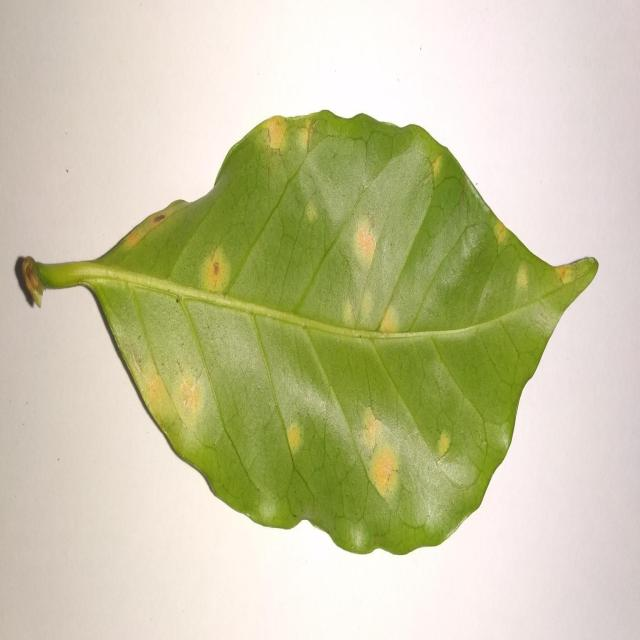Enfermedad-Roya: (12, 109, 600, 558)
